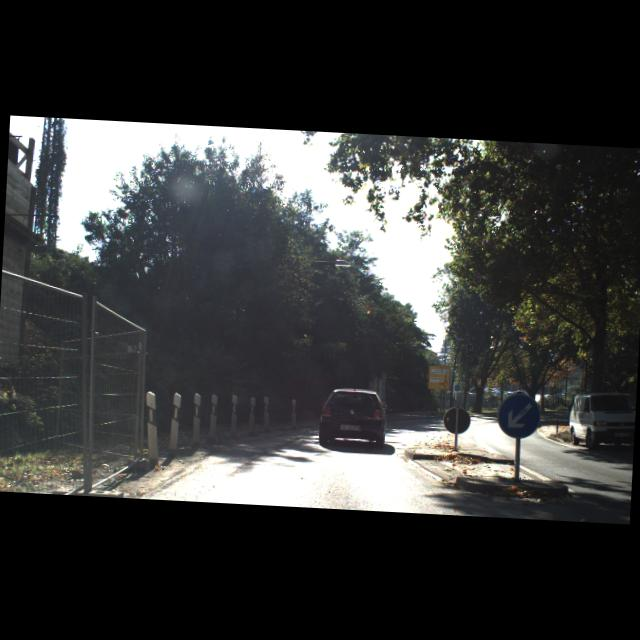mandatory: (496, 393, 542, 440)
